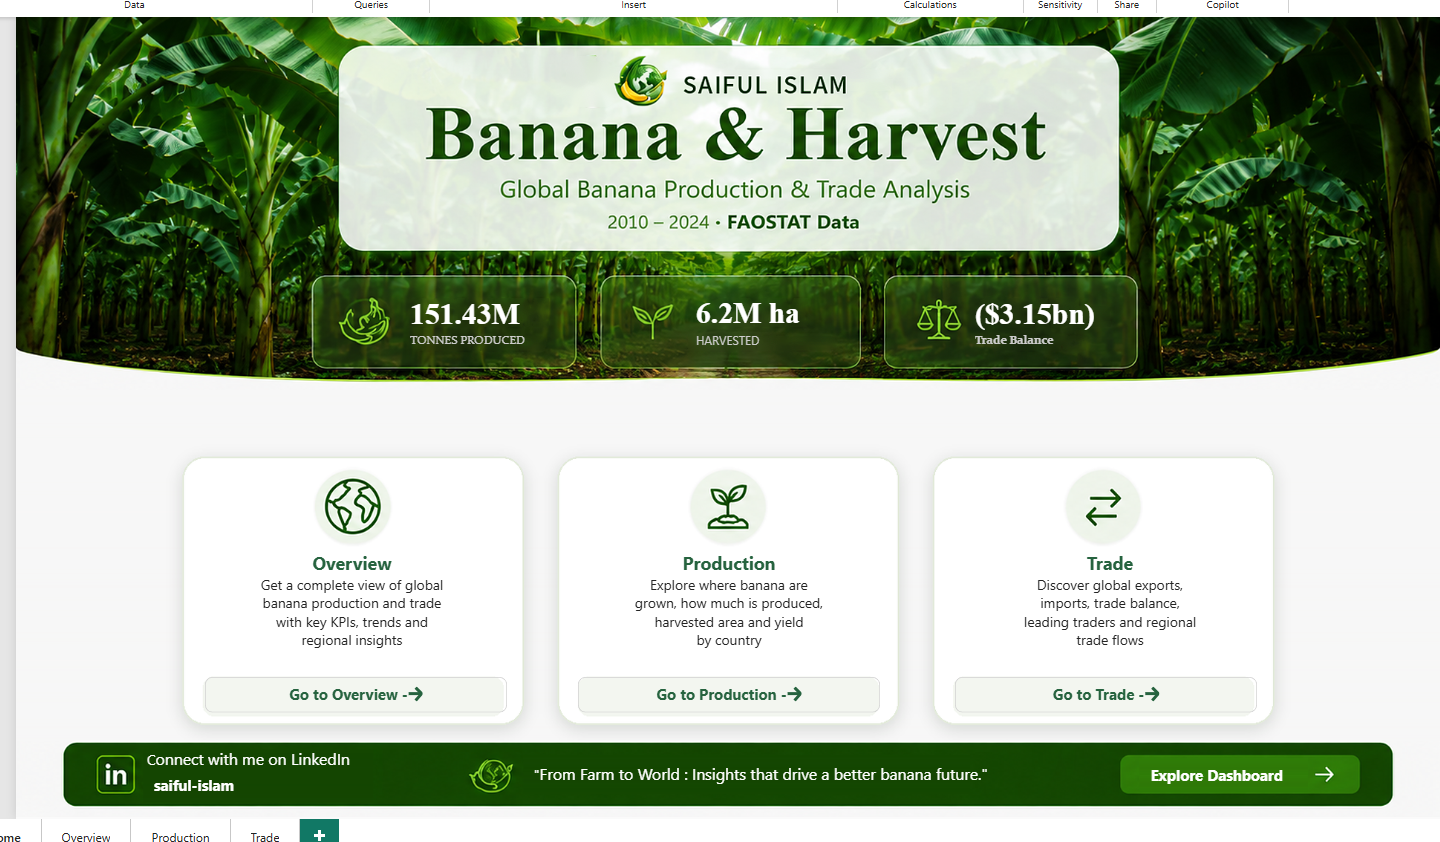

What the dashboard file says about the page in this screenshot:
{"tool":"powerbi","page":{"name":"Welcome","canvas":[1920,1080],"ordinal":0},"visuals":[{"type":"cardVisual","fields":{"Data":["All Measures.Total Production"]},"box":[514.5,363,222.4,98.3],"z":0},{"type":"cardVisual","fields":{"Data":["Who grows Measures.Total Area Harvested Label"]},"box":[899.3,363,222.4,98.3],"z":1000},{"type":"cardVisual","fields":{"Data":["All Measures.Trade Balance"]},"box":[1275.9,363,214.2,98.3],"z":2000},{"type":"textbox","box":[255.2,719.1,395.7,155.6],"z":3000},{"type":"textbox","box":[762.8,719.1,395.7,155.6],"z":4000},{"type":"textbox","box":[1275.9,719.1,395.7,155.6],"z":5000},{"type":"actionButton","box":[255.2,888.4,406.7,47.8],"z":6000},{"type":"actionButton","box":[757.4,888.4,406.7,47.8],"z":7000},{"type":"actionButton","box":[1265,888.4,406.7,47.8],"z":8000},{"type":"actionButton","box":[1490.1,993.4,252.5,54.6],"z":9000},{"type":"textbox","box":[697.3,1004.3,626.4,54.6],"z":10000},{"type":"textbox","box":[176,983.9,282.5,36.8],"z":10001},{"type":"actionButton","box":[173.3,1011.2,178.8,47.8],"z":10002}]}

Visuals, with their boxes on the page's 1920x1080 design canvas (x1, y1, x2, y2). These are canvas units, not pixel positions in the 1440x842 screenshot, which may show the page scaled, cropped or inside an application window:
cardVisual - All Measures.Total Production: <box>514,363,737,461</box>
cardVisual - Who grows Measures.Total Area Harvested Label: <box>899,363,1122,461</box>
cardVisual - All Measures.Trade Balance: <box>1276,363,1490,461</box>
textbox: <box>255,719,651,875</box>
textbox: <box>763,719,1158,875</box>
textbox: <box>1276,719,1672,875</box>
actionButton: <box>255,888,662,936</box>
actionButton: <box>757,888,1164,936</box>
actionButton: <box>1265,888,1672,936</box>
actionButton: <box>1490,993,1743,1048</box>
textbox: <box>697,1004,1324,1059</box>
textbox: <box>176,984,458,1021</box>
actionButton: <box>173,1011,352,1059</box>
